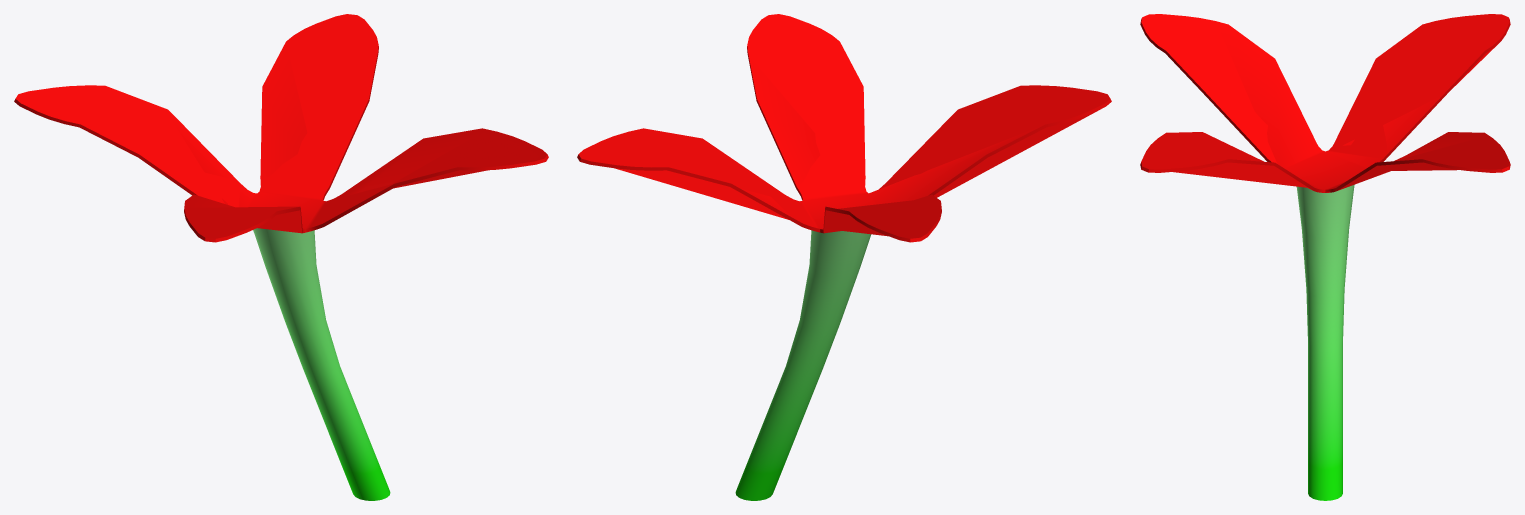
Rendered from flower_005.fbx.
3 renders of one model, left to right at view 1: azimuth 30°, elevation 25°; view 2: azimuth 150°, elevation 25°; view 3: azimuth 270°, elevation 25°, orthographic. The views are drawn at different scales.
Visible parts, largest first — view 1: Circle.004; view 2: Circle.004; view 3: Circle.004.
Part boxes in pixels (x1,y1,x2,y2): Circle.004: (14, 14, 548, 500); Circle.004: (577, 14, 1111, 500); Circle.004: (1140, 14, 1510, 500).
Bounding box in the file's own units: 17.68 × 19.01 × 17.68.
Materials: 2 (1 with a texture image).
